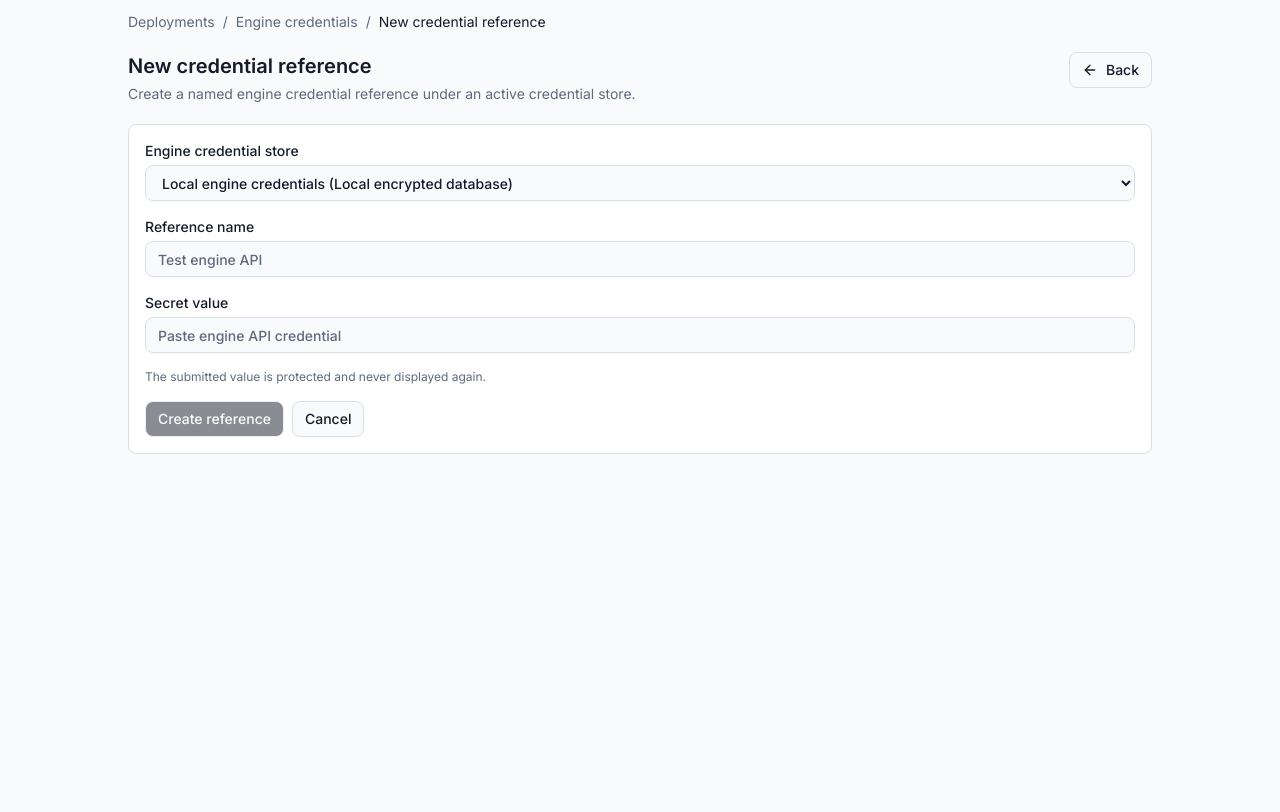
Scenario: DeploymentsPage › creates write-only local references from a dedicated create page
Expected: the heading "New credential reference" is shown, [128,54,372,78]
Expected: the dropdown labelled "Engine credential store" shows "Local engine credentials (Local encrypted database)", [145,165,1135,201]
In the field labelled "Reference name": (640, 259) [145,241,1135,277], type "Local staging engine API"
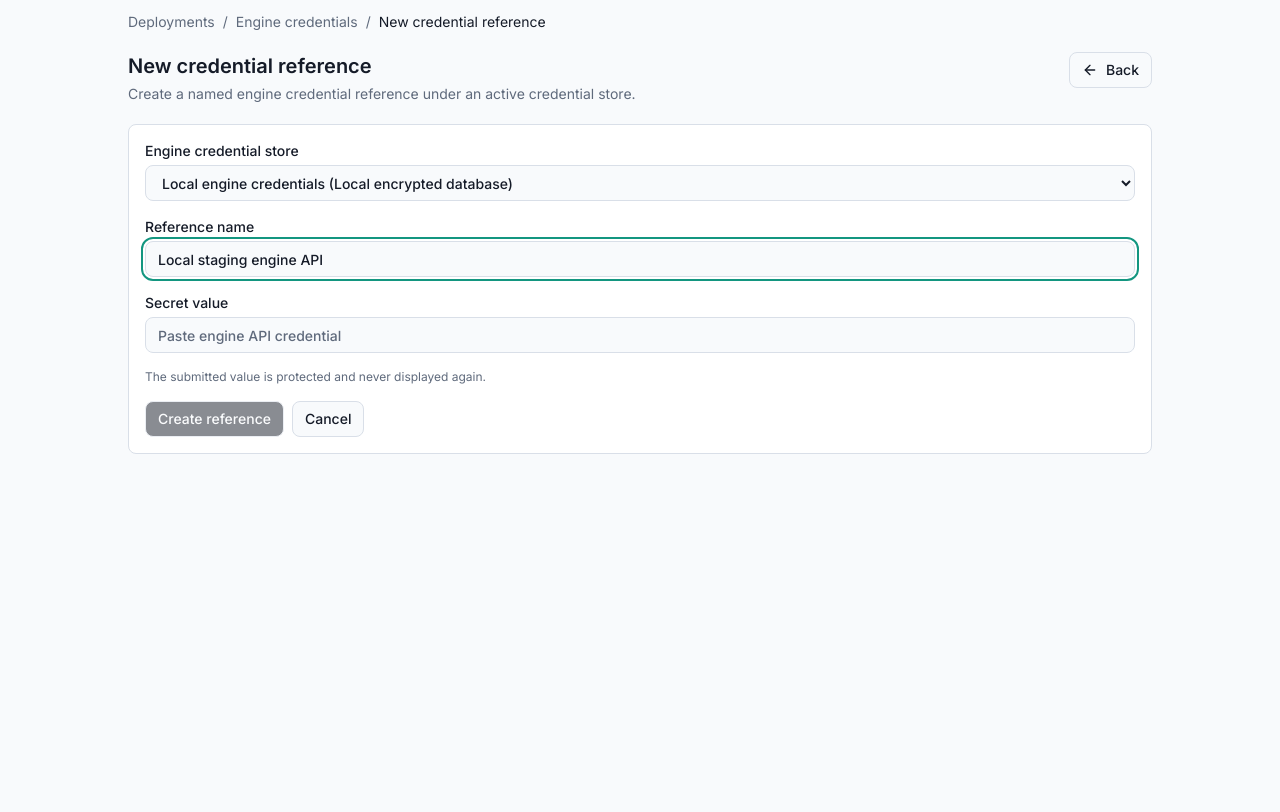
In the password field labelled "Secret value": (640, 335) [145,317,1135,353], type "local-staging-secret"
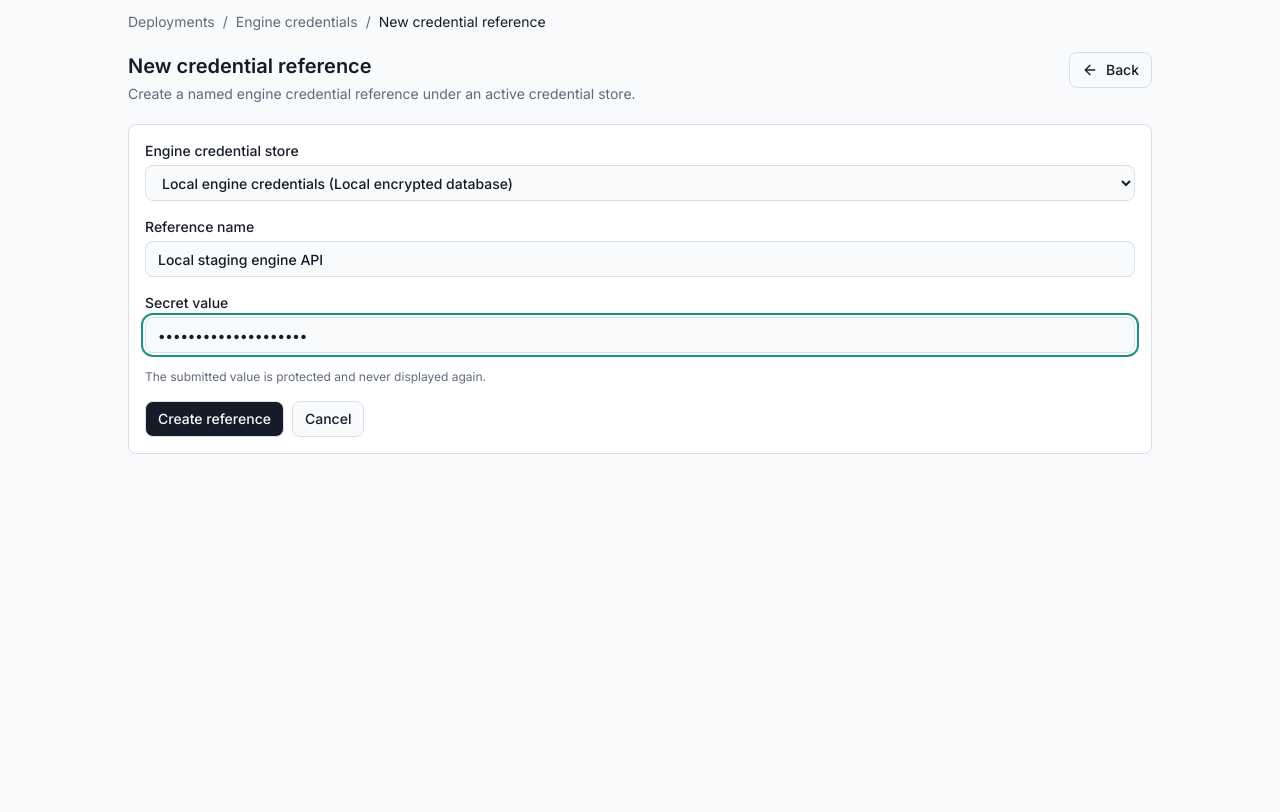
Click the button "Create reference": (214, 419) [145,401,284,437]
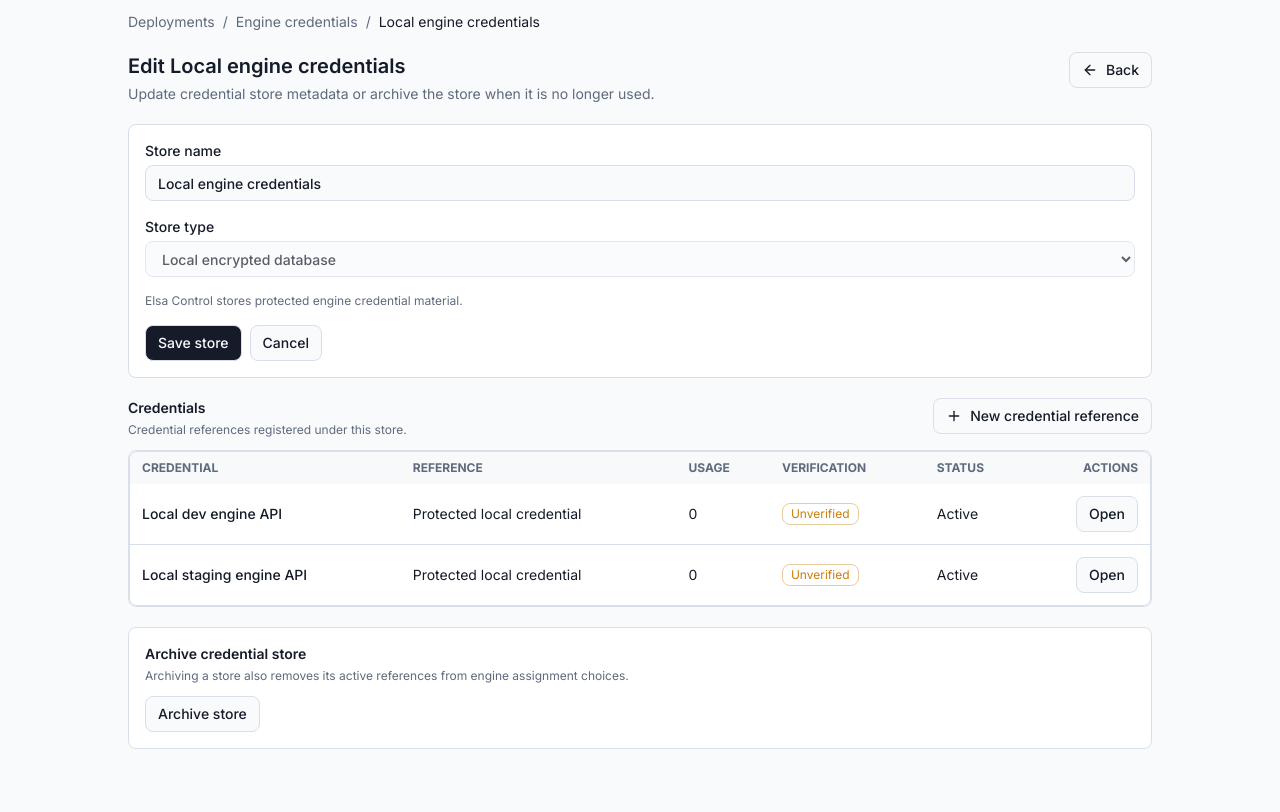
Expected: the heading "Edit Local engine credentials" is shown, [128,54,406,78]
